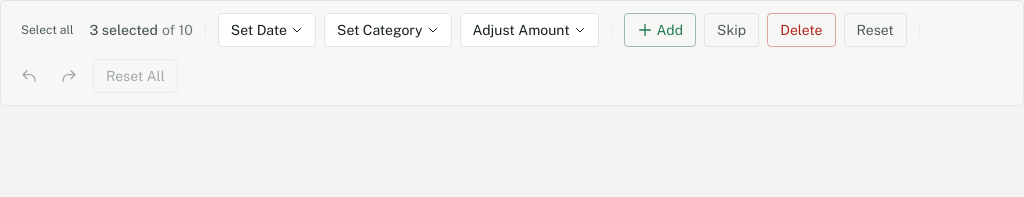
it: BulkEditToolbar › Bulk Edit Dropdowns › opens date picker when Set Date clicked
Step 1. Click the button "Set Date" → {"x": 267, "y": 30}, box [218,13,316,47]
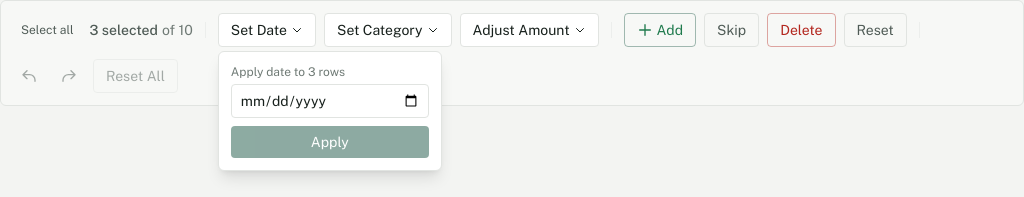
Check: the text "Apply date to 3 rows" is shown, box [231,65,345,79]
